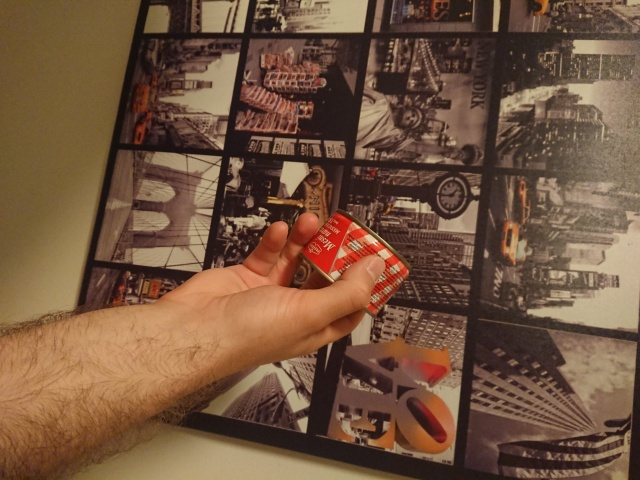Podravka Luncheon Meat 150g: (296, 208, 416, 320)
